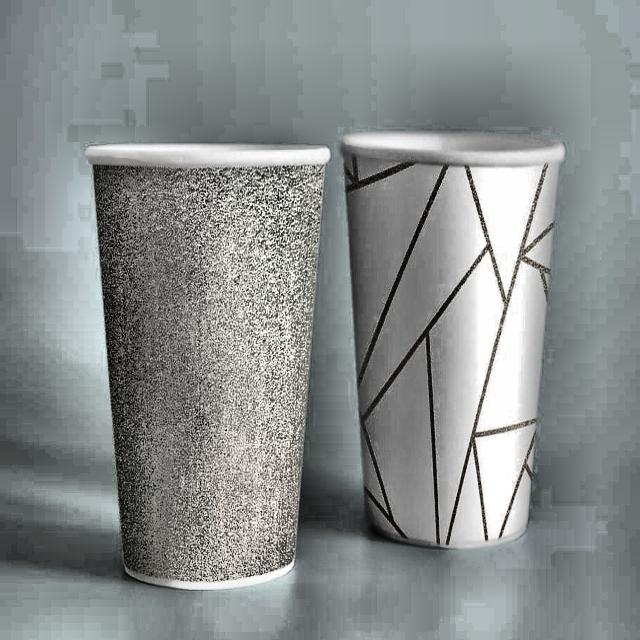Cup: (71, 131, 332, 594), (338, 122, 567, 557)
